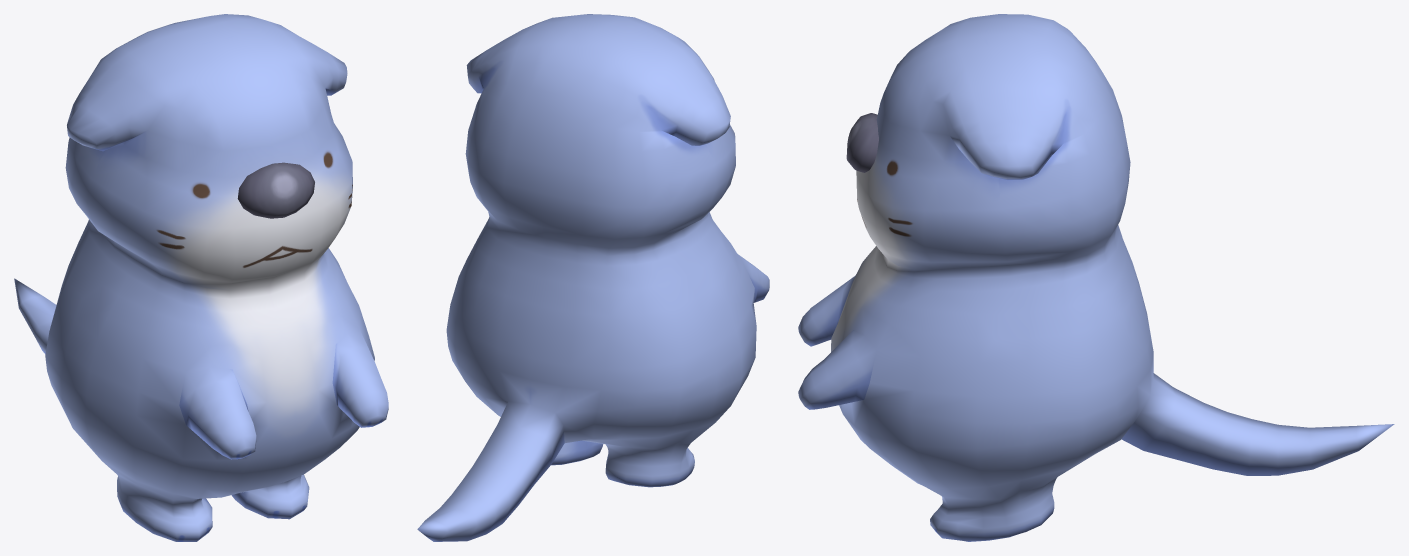
File: otter.fbx
The picture shows the model from 3 angles, left to right: view 1: azimuth 30°, elevation 25°; view 2: azimuth 150°, elevation 25°; view 3: azimuth 270°, elevation 25°; orthographic projection. The views are drawn at different scales.
Parts seen in each view (by area): view 1: otter; view 2: otter; view 3: otter.
Part boxes in pixels (<box>): otter: <box>14,14,388,541</box>; otter: <box>417,14,769,541</box>; otter: <box>798,14,1394,541</box>.
Size of the model in its own units: 85.6 by 142 by 161.
